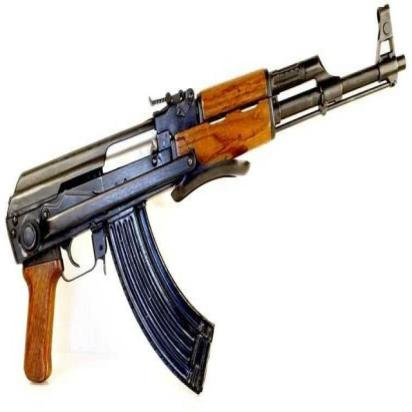Gun: (5, 8, 408, 389)
